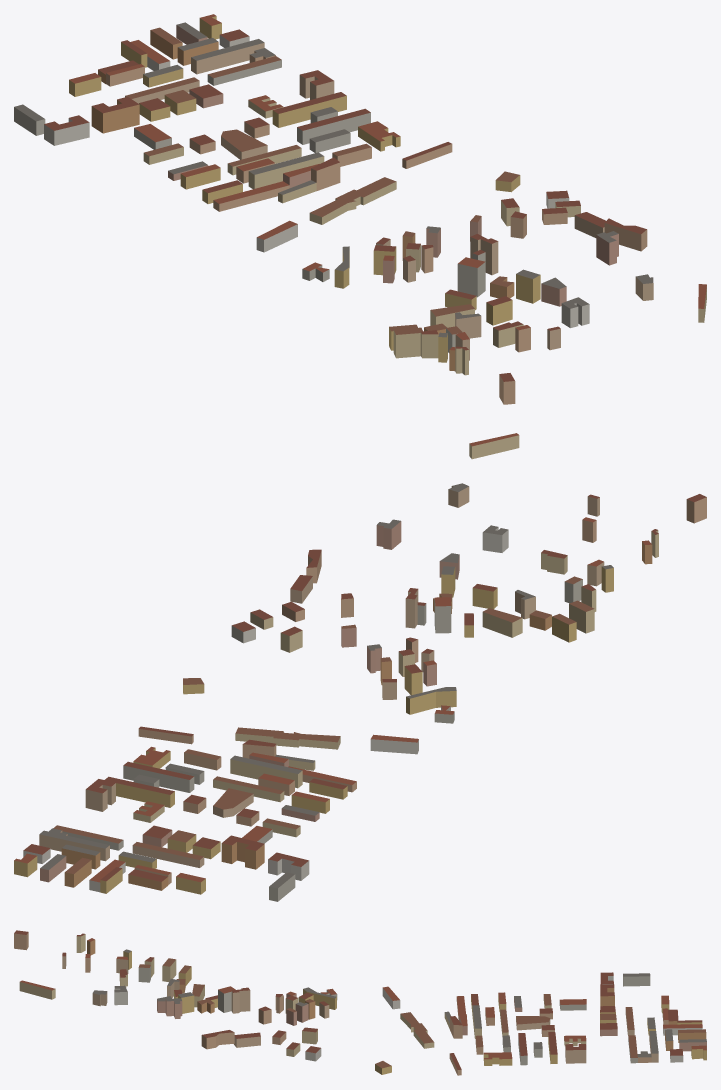
Rendered from SM_Fondale_Citta_NO_03_LOD1.fbx.
The picture shows the model from 3 angles, top to bottom: view 1: azimuth 30°, elevation 25°; view 2: azimuth 150°, elevation 25°; view 3: azimuth 270°, elevation 25°; orthographic projection. The views are drawn at different scales.
Parts seen in each view (by area): view 1: SM_Fondale_Citta_NO_03_LOD1; view 2: SM_Fondale_Citta_NO_03_LOD1; view 3: SM_Fondale_Citta_NO_03_LOD1.
Part boxes in pixels (box(x1,y1,x2,y2)): SM_Fondale_Citta_NO_03_LOD1: box(14, 14, 706, 404); SM_Fondale_Citta_NO_03_LOD1: box(14, 433, 706, 901); SM_Fondale_Citta_NO_03_LOD1: box(14, 930, 706, 1075).
Bounding box in the file's own units: 34291 × 101727 × 11523.
